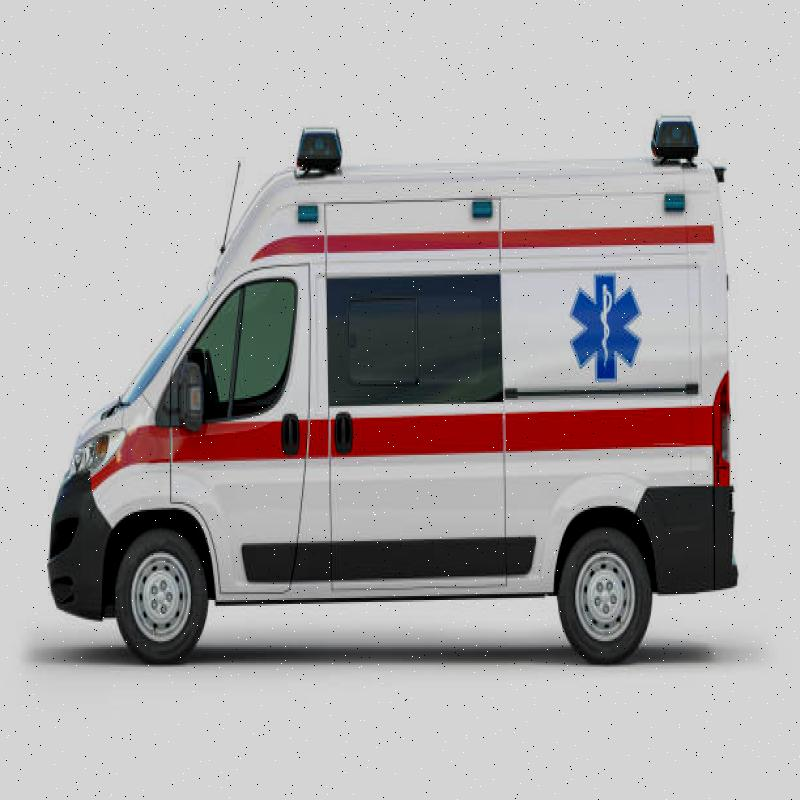ambulance: (42, 69, 746, 682)
